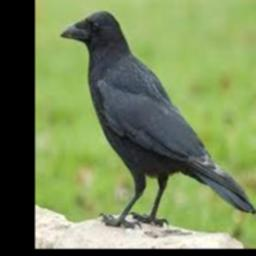Crow: (62, 10, 255, 228)
